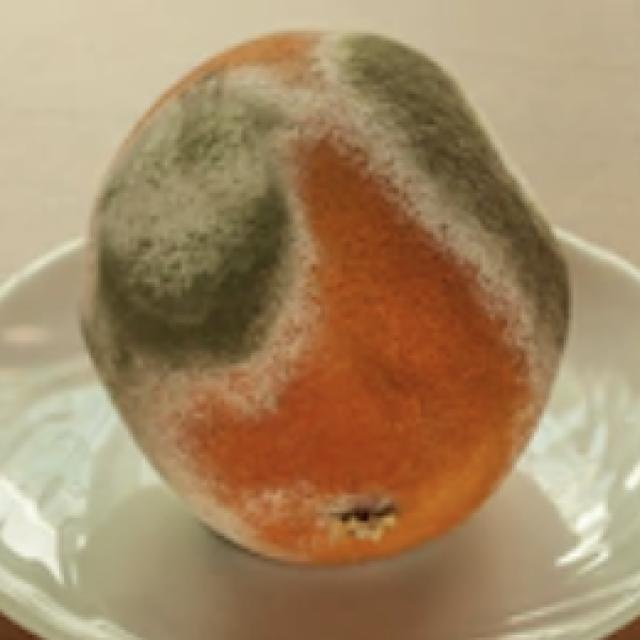sangat-busuk: (83, 32, 568, 562)
